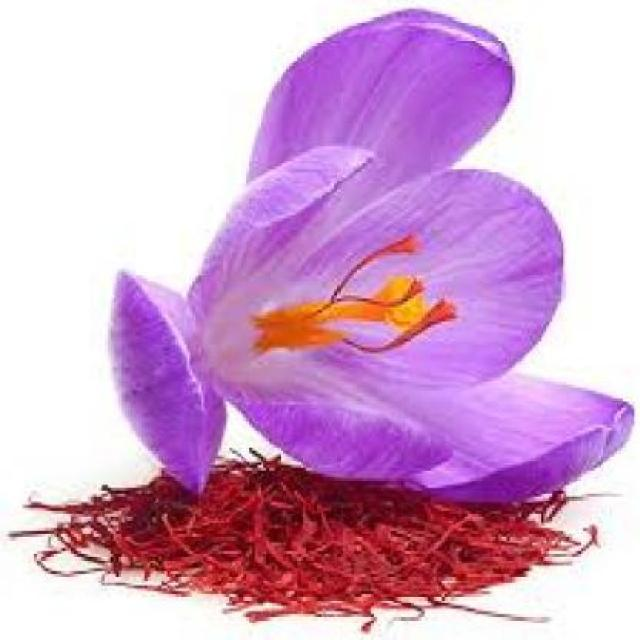Flower: (112, 6, 636, 502)
stigma: (348, 299, 462, 353), (335, 226, 428, 288), (340, 275, 430, 308)
